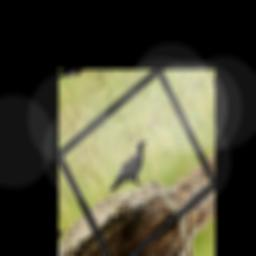Crow: (101, 136, 162, 208)
